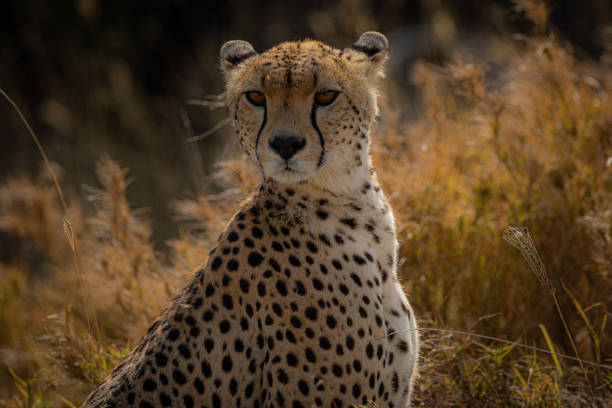cheetah: (214, 19, 403, 234)
